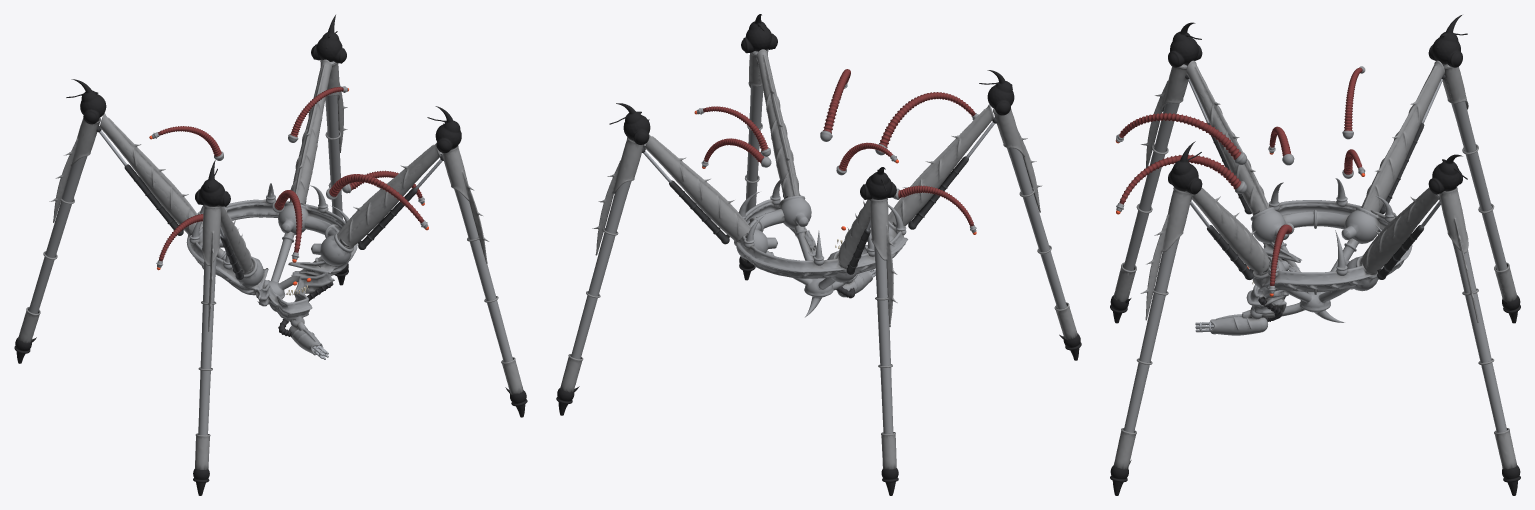
File: cerebrax-parts.glb
The picture shows the model from 3 angles, left to right: view 1: azimuth 30°, elevation 25°; view 2: azimuth 150°, elevation 25°; view 3: azimuth 270°, elevation 25°; orthographic projection. The views are drawn at different scales.
Visible parts, largest first — view 1: pelvis|harness, pelvis|tendrils, thigh.r|strut, upperarm.l|strut, thigh.l|strut, forearm.l|tube, forearm.r|tube, shin.r|tube, forearm.l|collar, forearm.r|collar, shin.r|collar, pelvis|frame (+12 smaller); view 2: pelvis|harness, pelvis|tendrils, thigh.l|strut, upperarm.r|strut, upperarm.l|strut, shin.l|tube, shin.r|collar, shin.l|collar, shin.r|tube, forearm.r|tube, forearm.r|collar, pelvis|frame (+10 smaller); view 3: pelvis|harness, pelvis|tendrils, thigh.r|strut, pelvis|frame, forearm.l|collar, upperarm.r|strut, forearm.l|tube, upperarm.l|strut, thigh.l|strut, shin.l|tube, shin.r|tube, shin.l|collar (+12 smaller).
Part boxes in pixels (left/top/right/bottom): pelvis|harness: left=186, top=199, right=357, bottom=327; pelvis|tendrils: left=157, top=87, right=424, bottom=261; thigh.r|strut: left=99, top=113, right=202, bottom=235; upperarm.l|strut: left=337, top=142, right=441, bottom=248; thigh.l|strut: left=290, top=59, right=331, bottom=203; forearm.l|tube: left=454, top=189, right=512, bottom=362; forearm.r|tube: left=198, top=257, right=216, bottom=435; shin.r|tube: left=28, top=156, right=87, bottom=313; forearm.l|collar: left=442, top=145, right=523, bottom=394; forearm.r|collar: left=195, top=204, right=221, bottom=469; shin.r|collar: left=18, top=117, right=100, bottom=343; pelvis|frame: left=198, top=215, right=339, bottom=321; pelvis|harness: left=734, top=194, right=907, bottom=284; pelvis|tendrils: left=703, top=69, right=975, bottom=226; thigh.l|strut: left=643, top=134, right=750, bottom=242; upperarm.r|strut: left=888, top=104, right=993, bottom=226; upperarm.l|strut: left=756, top=49, right=799, bottom=197; shin.l|tube: left=571, top=181, right=631, bottom=359; shin.r|collar: left=869, top=197, right=897, bottom=469; shin.l|collar: left=560, top=137, right=643, bottom=392; shin.r|tube: left=874, top=245, right=893, bottom=433; forearm.r|tube: left=1007, top=147, right=1066, bottom=309; forearm.r|collar: left=993, top=109, right=1077, bottom=339; pelvis|frame: left=748, top=209, right=893, bottom=317; pelvis|harness: left=1246, top=200, right=1412, bottom=319; pelvis|tendrils: left=1119, top=67, right=1362, bottom=285; thigh.r|strut: left=1361, top=60, right=1444, bottom=212; pelvis|frame: left=1261, top=209, right=1358, bottom=322; forearm.l|collar: left=1114, top=187, right=1191, bottom=469; upperarm.r|strut: left=1186, top=60, right=1269, bottom=215; forearm.l|tube: left=1124, top=237, right=1179, bottom=432; upperarm.l|strut: left=1191, top=187, right=1270, bottom=275; thigh.l|strut: left=1360, top=187, right=1439, bottom=274; shin.l|tube: left=1452, top=241, right=1506, bottom=432; shin.r|tube: left=1443, top=64, right=1507, bottom=270; shin.l|collar: left=1439, top=187, right=1517, bottom=469.
Size of the model in its own units: 3.63 by 3.1 by 3.53.
